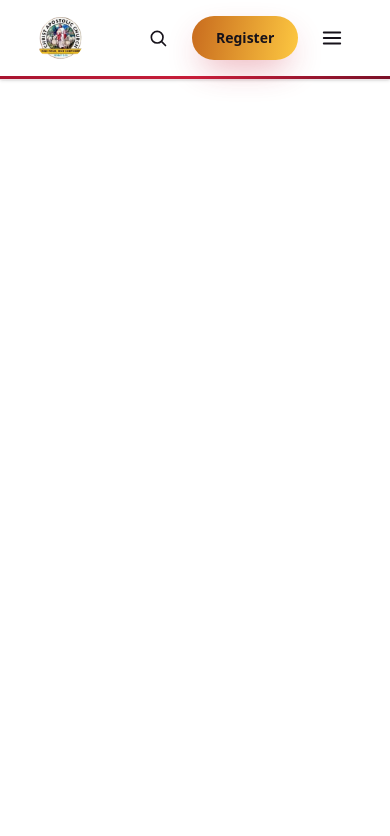
PrimaryNav › Programs accordion (mobile) › expands within the mobile menu to reveal all 7 department pages
What coordinates should you click on to do the following:
click the button named "Open menu"
I would click on:
 (332, 38)
Its box is [310, 16, 354, 60].
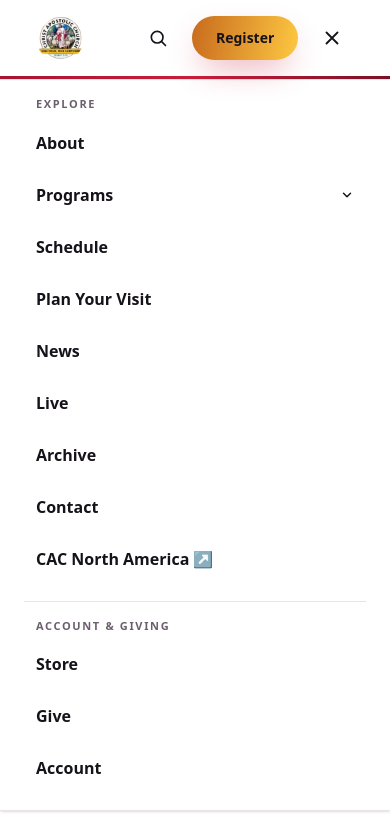
What coordinates should you click on to do the following:
click the button "Programs"
I would click on:
 (75, 194)
Its box is [24, 168, 366, 220].
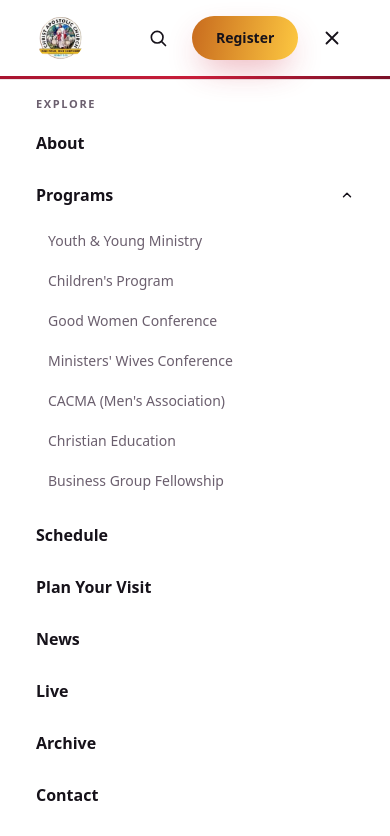
Check: the link "Youth & Young Ministry" is shown, box [48, 230, 202, 250]
Check: the link "Children's Program" is shown, box [48, 270, 174, 290]
Check: the link "Good Women Conference" is shown, box [48, 310, 217, 330]
